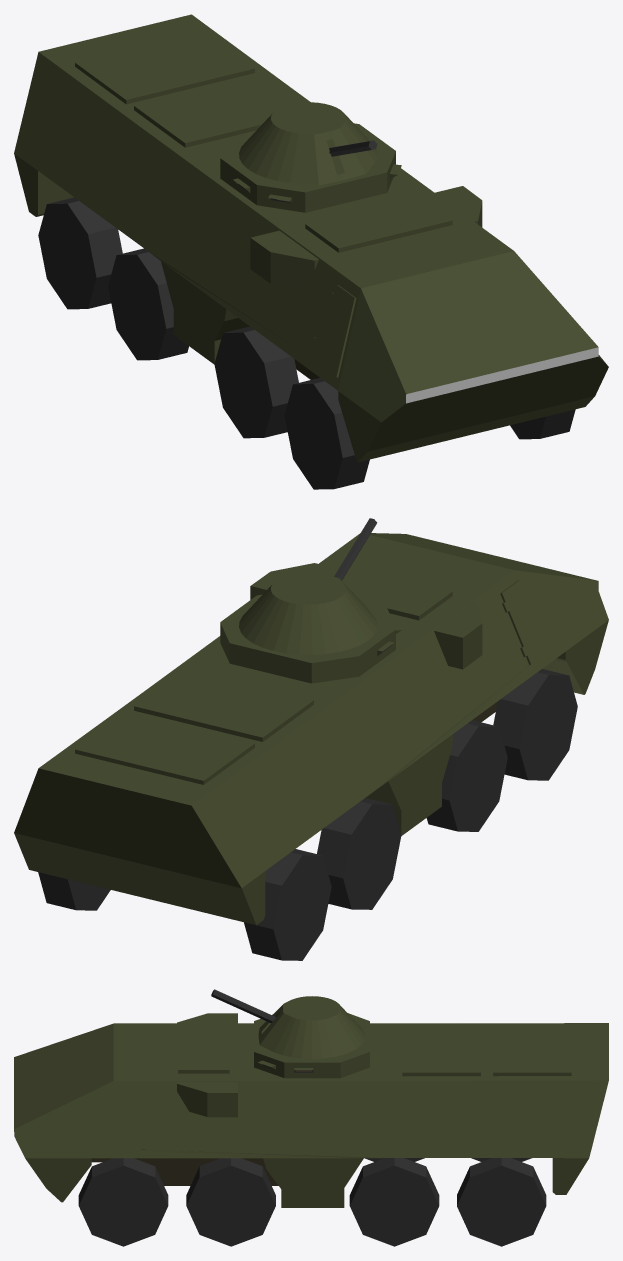
File: APC1.fbx
3 views of the same model, one above another, from view 1: azimuth 30°, elevation 25°; view 2: azimuth 150°, elevation 25°; view 3: azimuth 270°, elevation 25° (orthographic). The views are drawn at different scales.
Parts seen in each view (by area): view 1: Body, Wheels; view 2: Body, Wheels; view 3: Body, Wheels.
Boxes of the visible parts, <box> form: Body: <box>14,14,608,462</box>; Wheels: <box>38,197,575,489</box>; Body: <box>14,518,608,925</box>; Wheels: <box>38,669,577,960</box>; Body: <box>14,989,608,1207</box>; Wheels: <box>78,1158,546,1246</box>.
Size of the model in its own units: 14.85 by 16.69 by 42.35.
